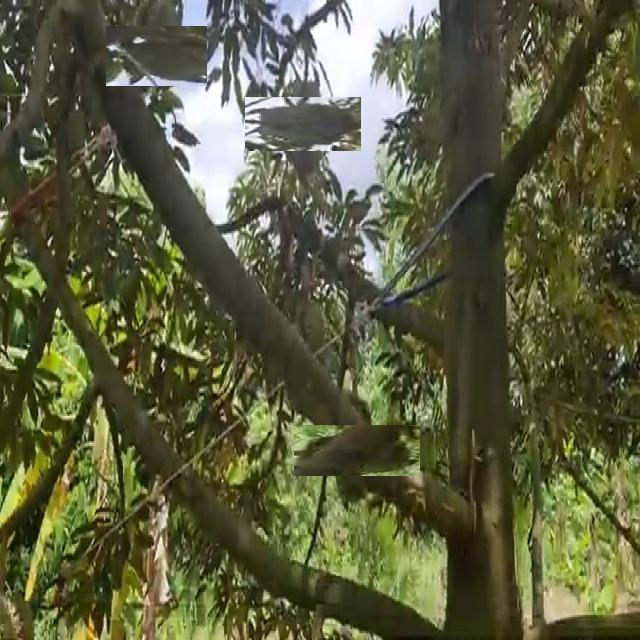durian: (313, 406, 402, 494), (261, 81, 346, 167), (116, 15, 197, 96), (291, 286, 330, 384)
